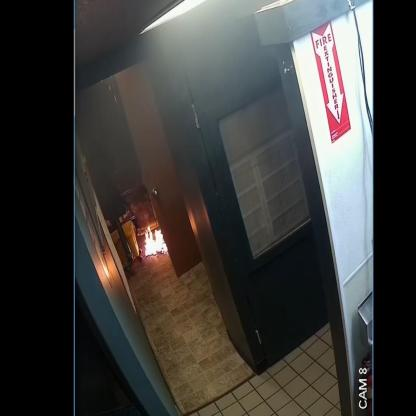fire: (144, 226, 168, 256)
